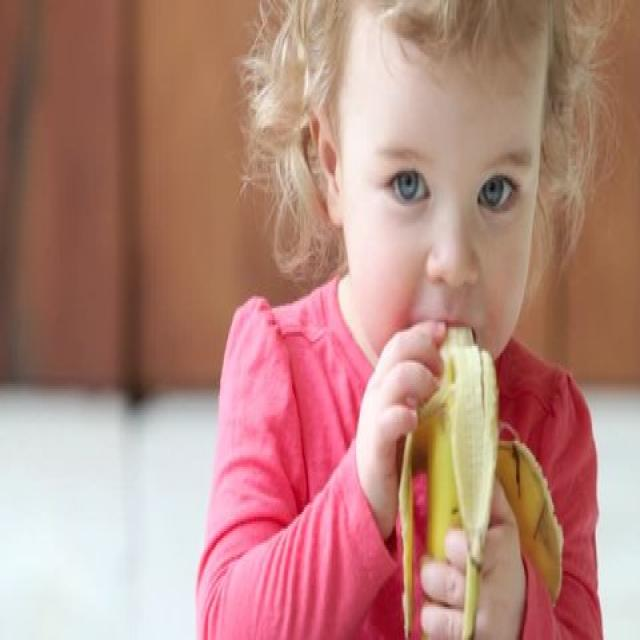banana_peel: (49, 18, 638, 616), (397, 287, 573, 622)
